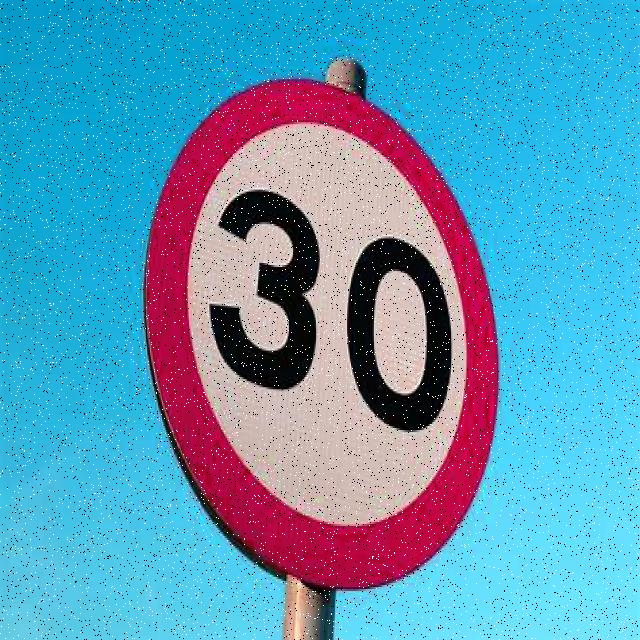speedlimit_30: (145, 74, 498, 571)
